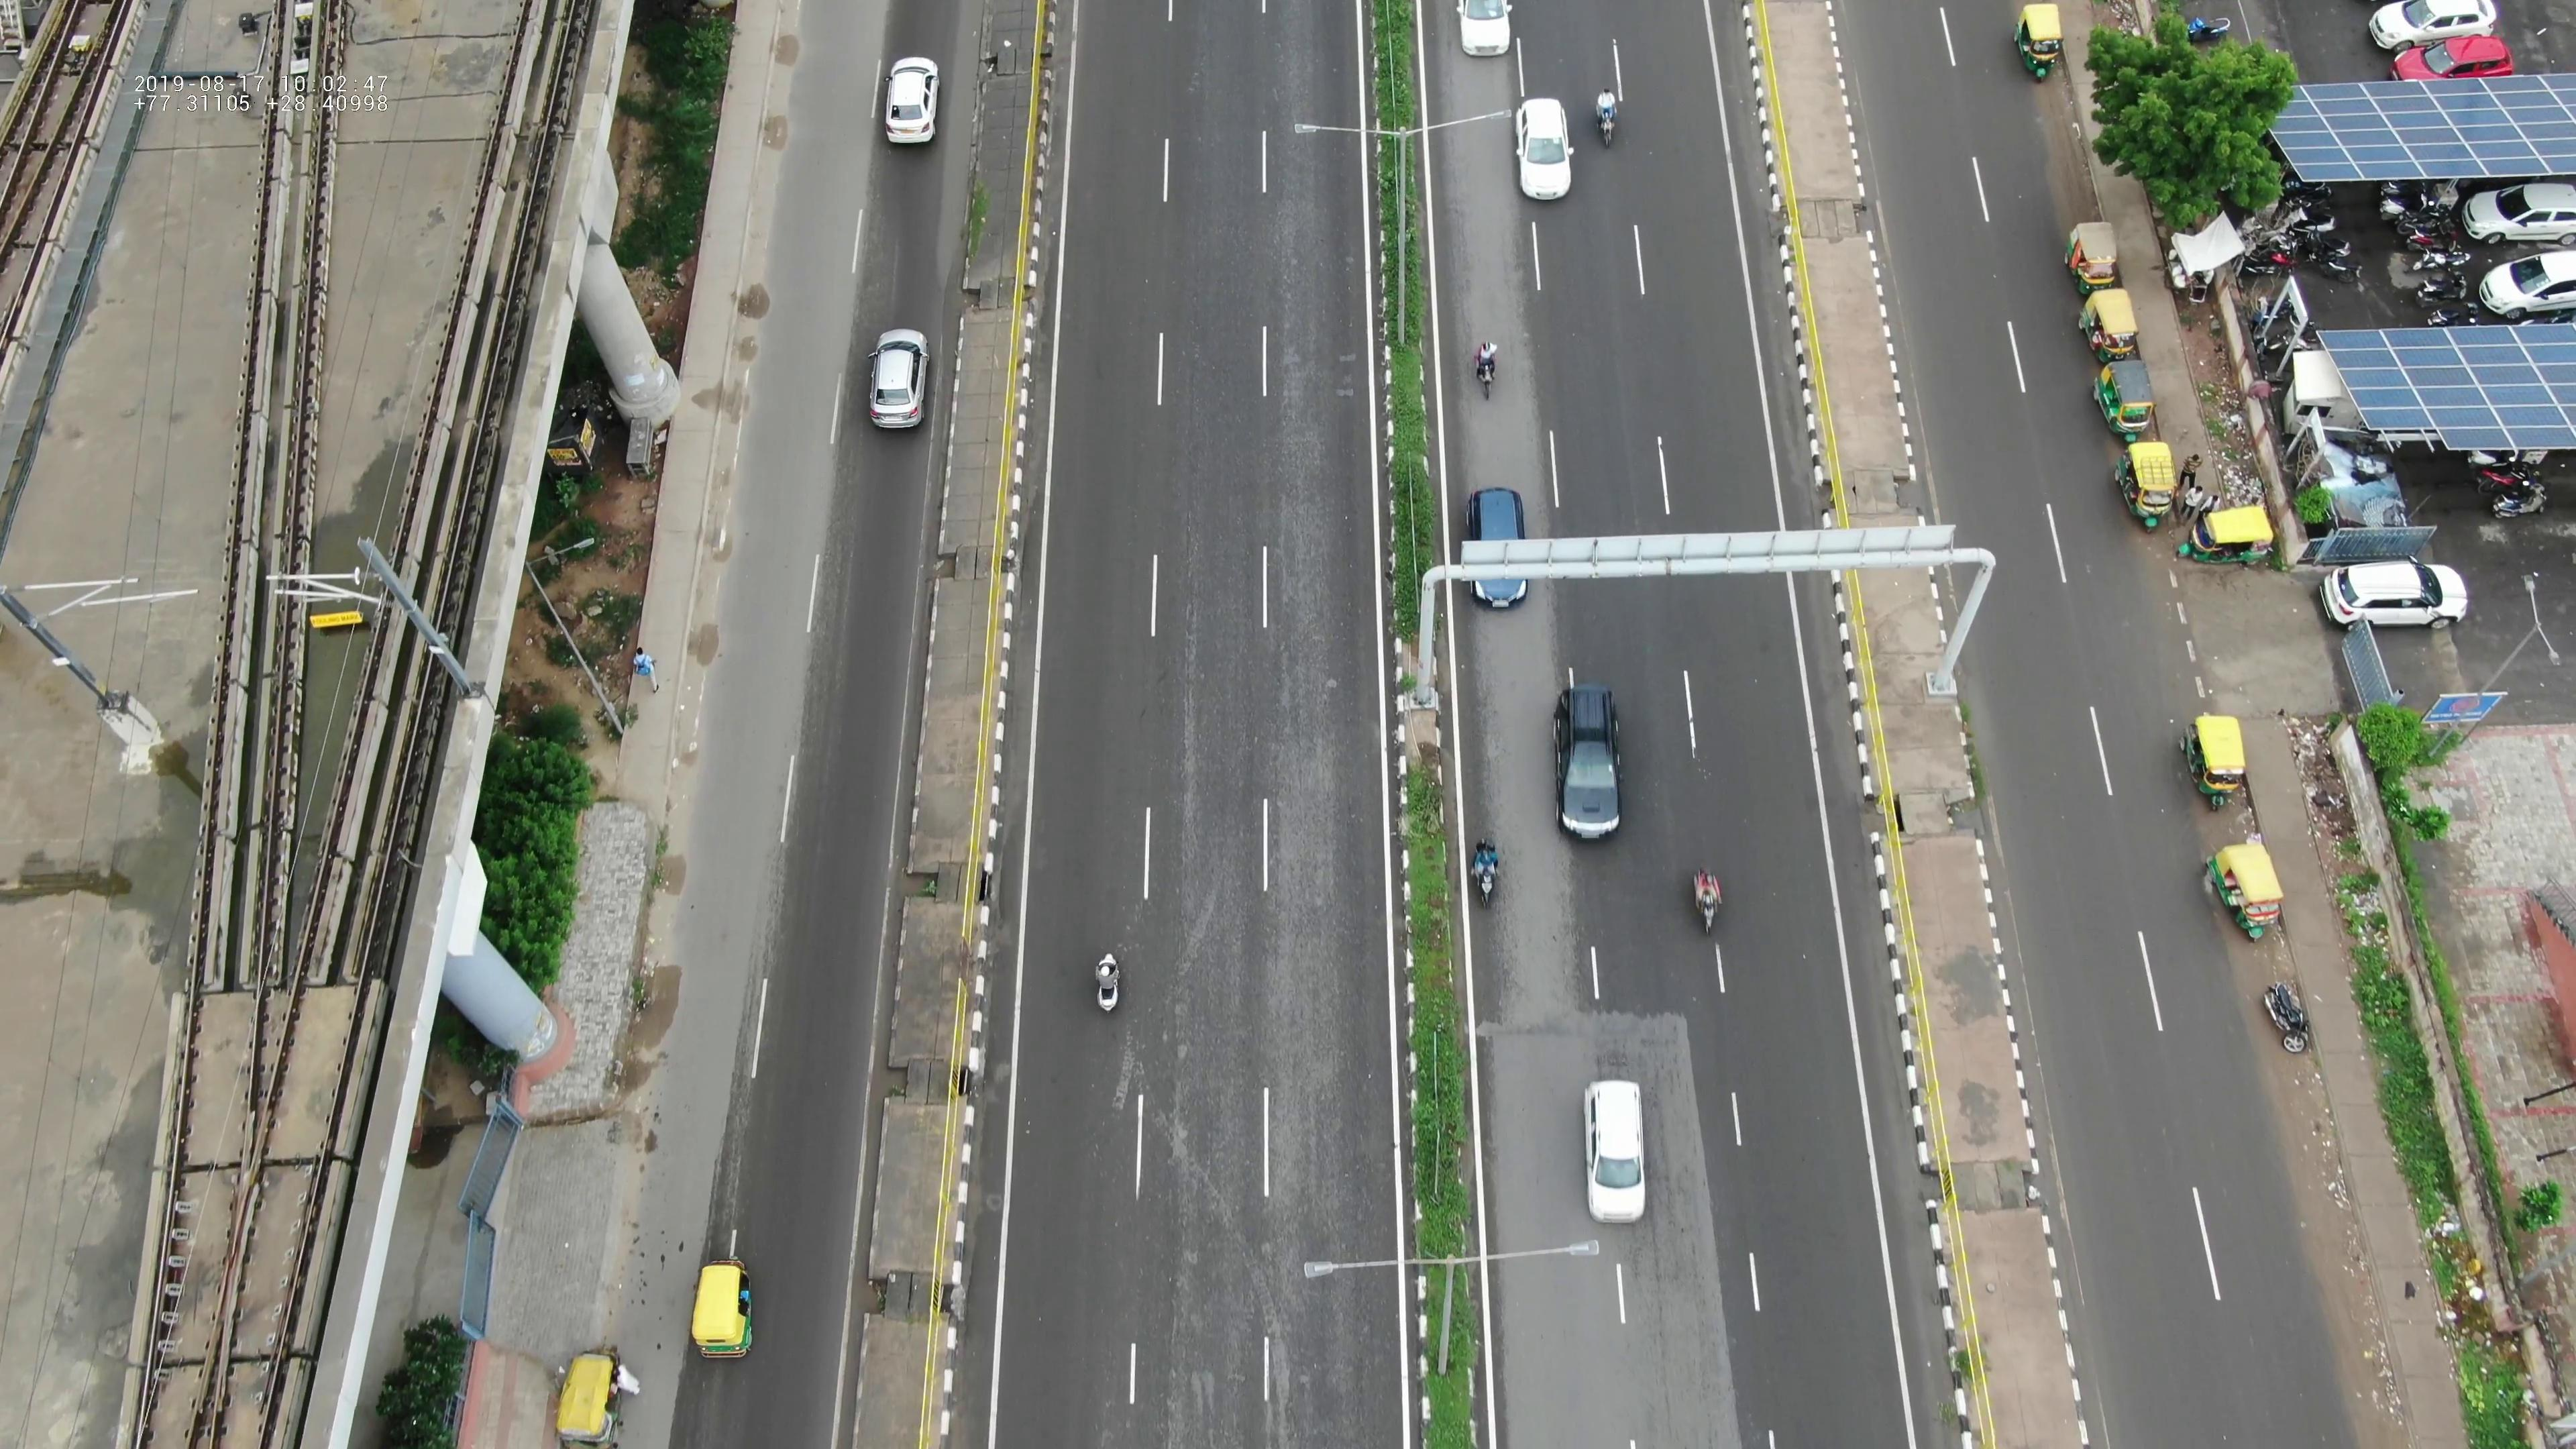Muddy_road: (2266, 1097, 2378, 1401), (2026, 87, 2095, 221)
